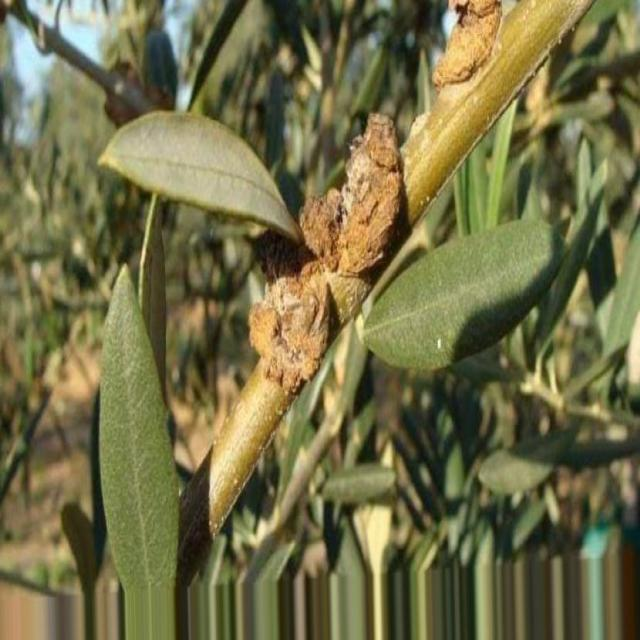Tuberculosis: (300, 114, 405, 278), (249, 268, 341, 394), (432, 0, 502, 96)
